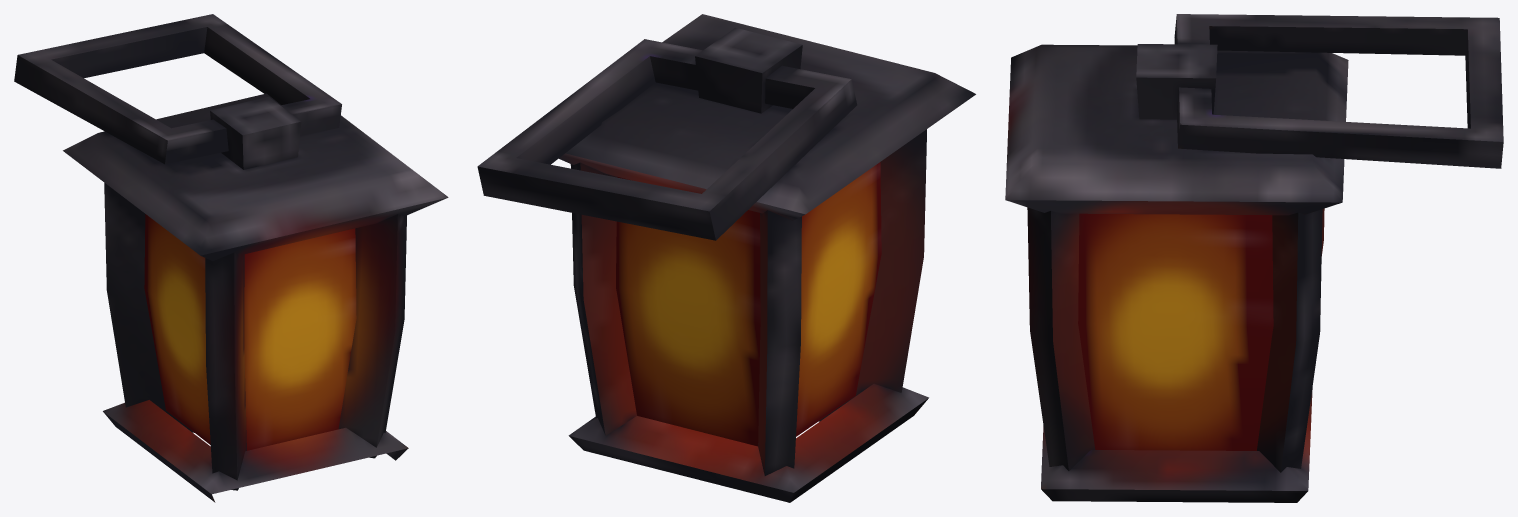
File: Prim_CorruptedFlora_Lamp.fbx
The picture shows the model from 3 angles, left to right: view 1: azimuth 30°, elevation 25°; view 2: azimuth 150°, elevation 25°; view 3: azimuth 270°, elevation 25°; orthographic projection. The views are drawn at different scales.
Parts seen in each view (by area): view 1: Prim_CorruptedFlora_Lamp; view 2: Prim_CorruptedFlora_Lamp; view 3: Prim_CorruptedFlora_Lamp.
Boxes of the visible parts, bbox=[...] form: Prim_CorruptedFlora_Lamp: bbox=[14, 14, 448, 502]; Prim_CorruptedFlora_Lamp: bbox=[477, 14, 975, 502]; Prim_CorruptedFlora_Lamp: bbox=[1005, 14, 1503, 502].
Bounding box in the file's own units: 91.44 × 114 × 133.
